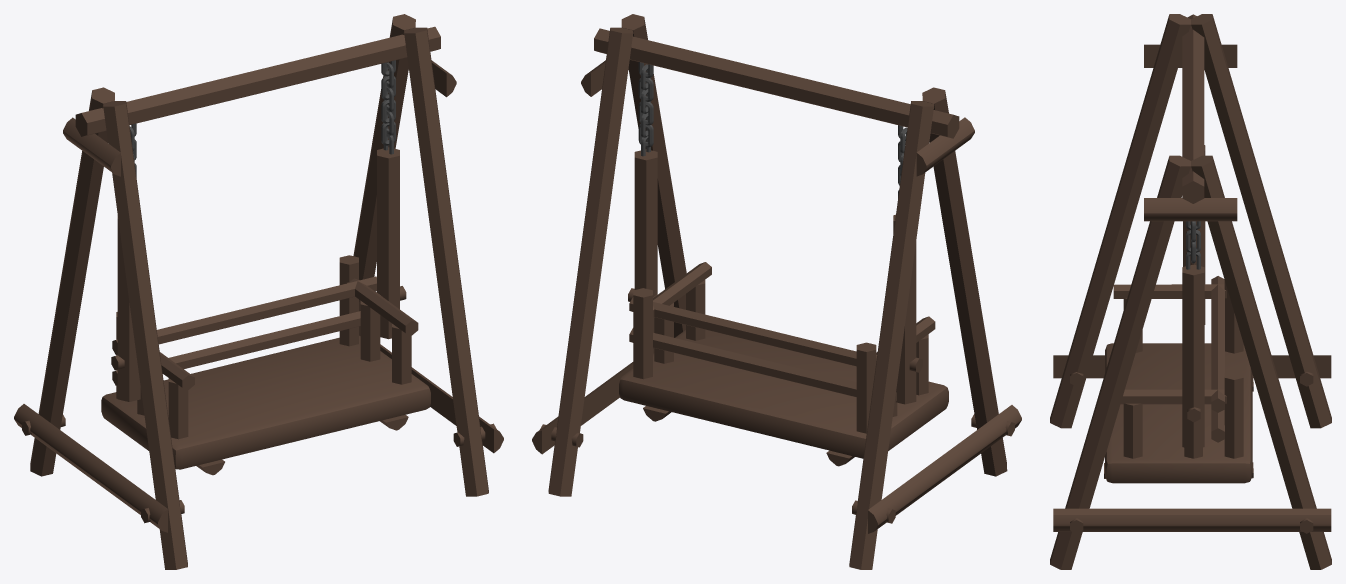
File: Balançoire.fbx
3 renders of one model, left to right at view 1: azimuth 30°, elevation 25°; view 2: azimuth 150°, elevation 25°; view 3: azimuth 270°, elevation 25°, orthographic. The views are drawn at different scales.
Parts seen in each view (by area): view 1: Cylinder013; view 2: Cylinder013; view 3: Cylinder013.
Boxes of the visible parts, x1,y1,x2,y2 form: Cylinder013: (14, 14, 503, 569); Cylinder013: (532, 14, 1021, 569); Cylinder013: (1050, 14, 1331, 569).
Bounding box in the file's own units: 1.54 × 1.76 × 1.1.
